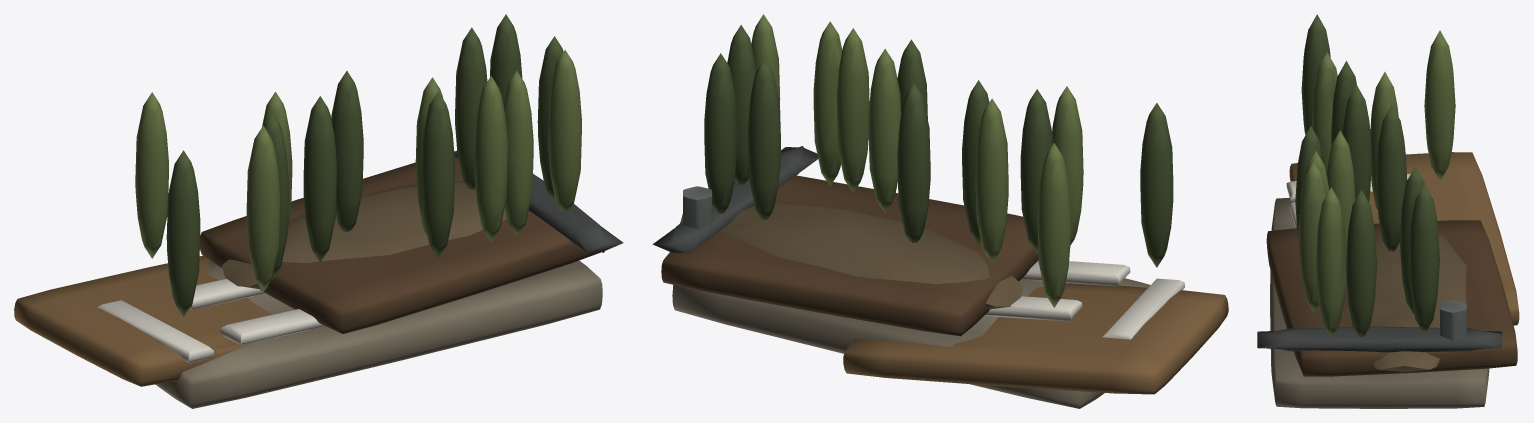
File: bent_numbers_c.glb
The picture shows the model from 3 angles, left to right: view 1: azimuth 30°, elevation 25°; view 2: azimuth 150°, elevation 25°; view 3: azimuth 270°, elevation 25°; orthographic projection. The views are drawn at different scales.
Parts seen in each view (by area): view 1: Surface; view 2: Surface; view 3: Surface.
Part boxes in pixels (box(x1,y1,x2,y2)): Surface: box(14, 14, 623, 408); Surface: box(652, 14, 1228, 408); Surface: box(1257, 14, 1519, 408).
Size of the model in its own units: 2.2 by 1.01 by 1.07.
